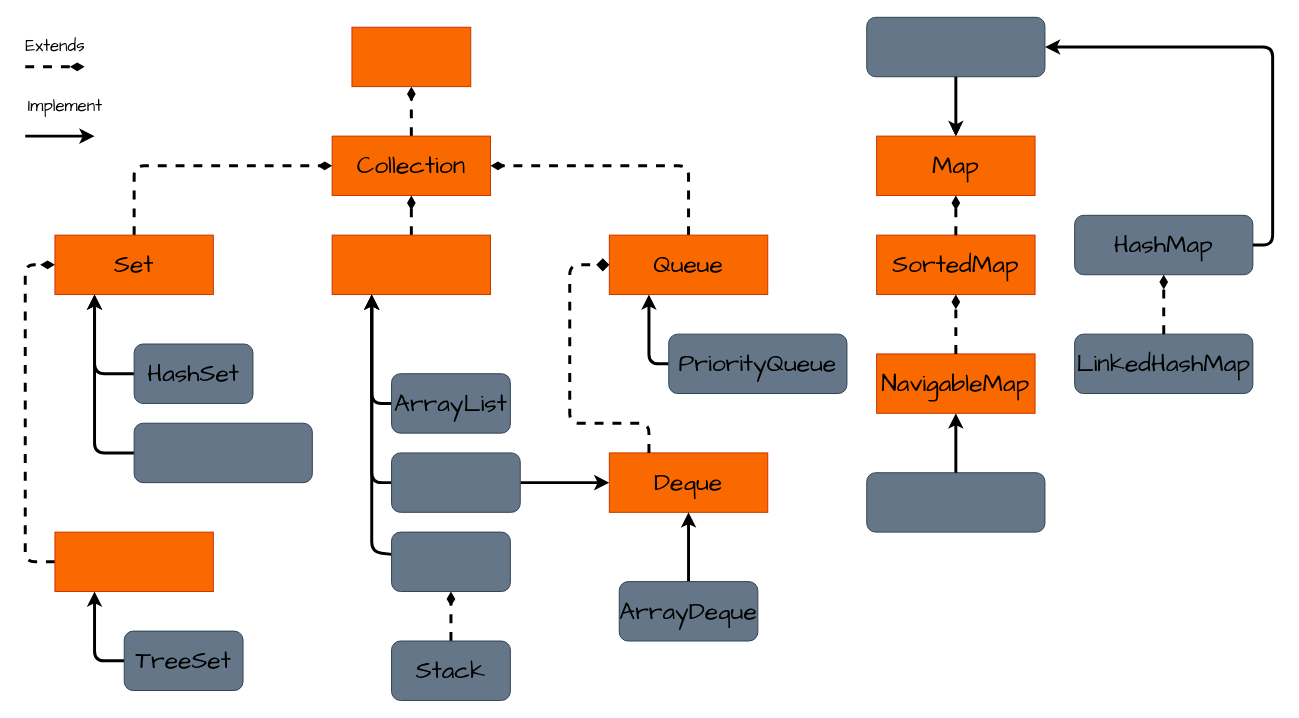
This 1299x718 diagram has some shape labels left out. Each missing label, with the centre of its shape:
AbstractMap: the point at 955,46
Iterable: the point at 411,56
LinkedHashSet: the point at 222,452
LinkedList: the point at 455,482
List: the point at 411,264
SortedSet: the point at 133,561
TreeMap: the point at 955,502
Vector: the point at 450,561
